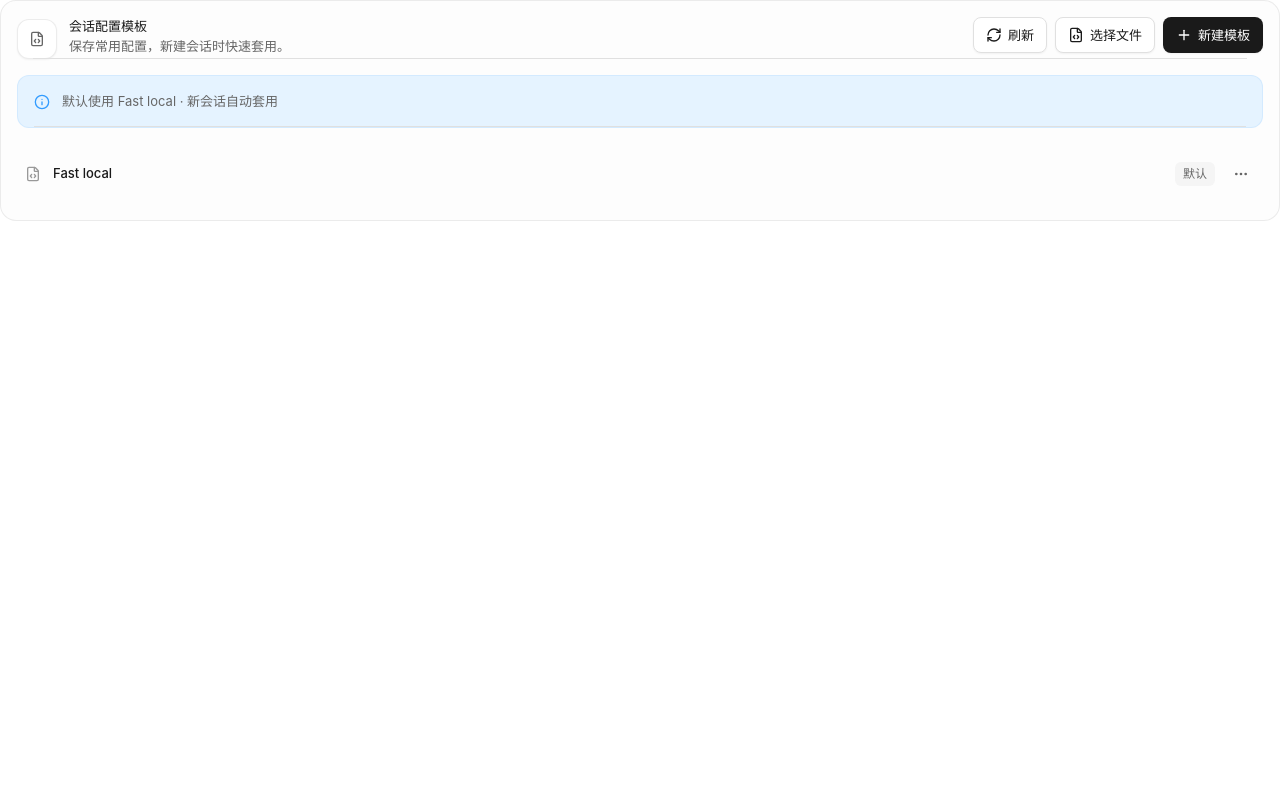
Test: blocks a new draft while an existing template is loading
Expected: the text "Fast local" is shown, [53, 165, 112, 181]
Click the button with test id "config-template-edit-fast-local" at (83, 173), box [53, 152, 1163, 196]
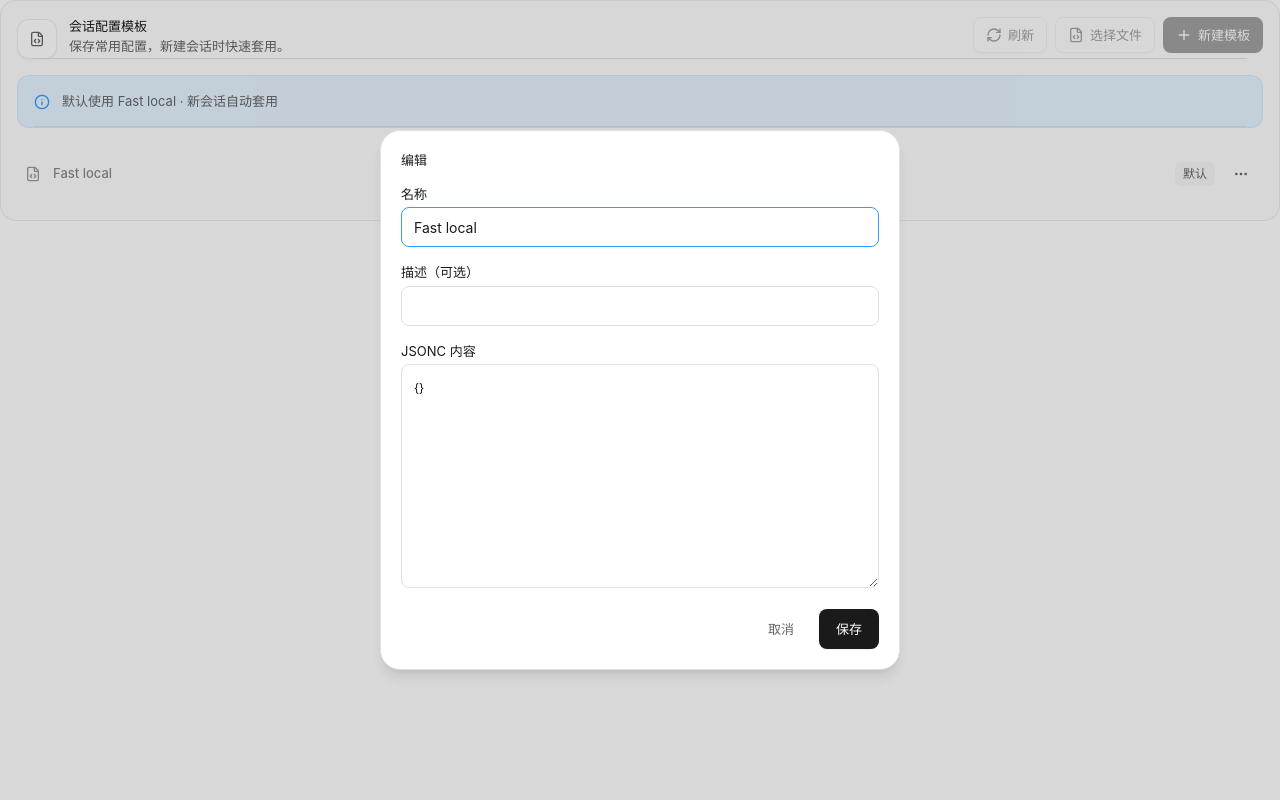
Now the button with test id "config-templates-new" is disabled, box [1163, 17, 1263, 53]
Now the field with test id "config-templates-name" holds "Fast local", box [401, 207, 879, 247]
